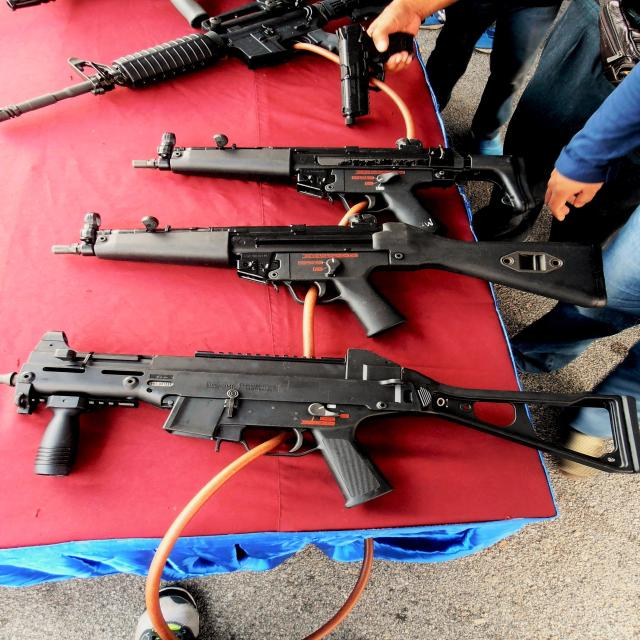HandGun: (336, 24, 414, 125)
Rifle: (0, 0, 396, 123)
SMG: (12, 331, 640, 509), (51, 214, 607, 337), (157, 134, 527, 228)
